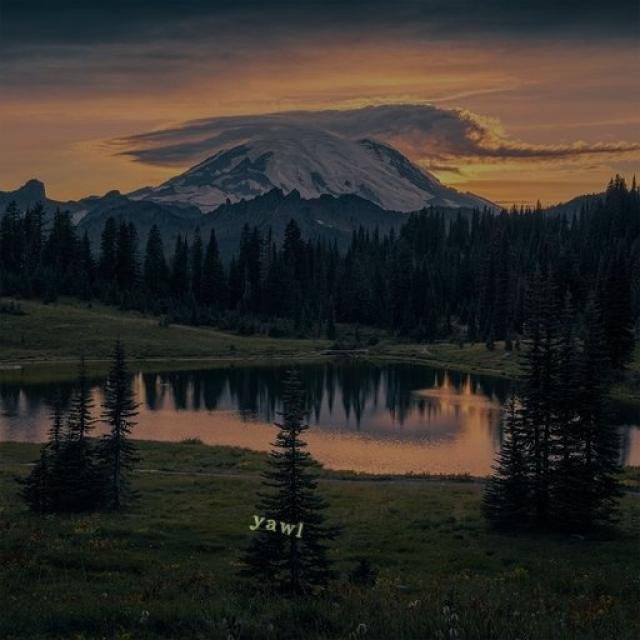watermark: (244, 509, 316, 540)
